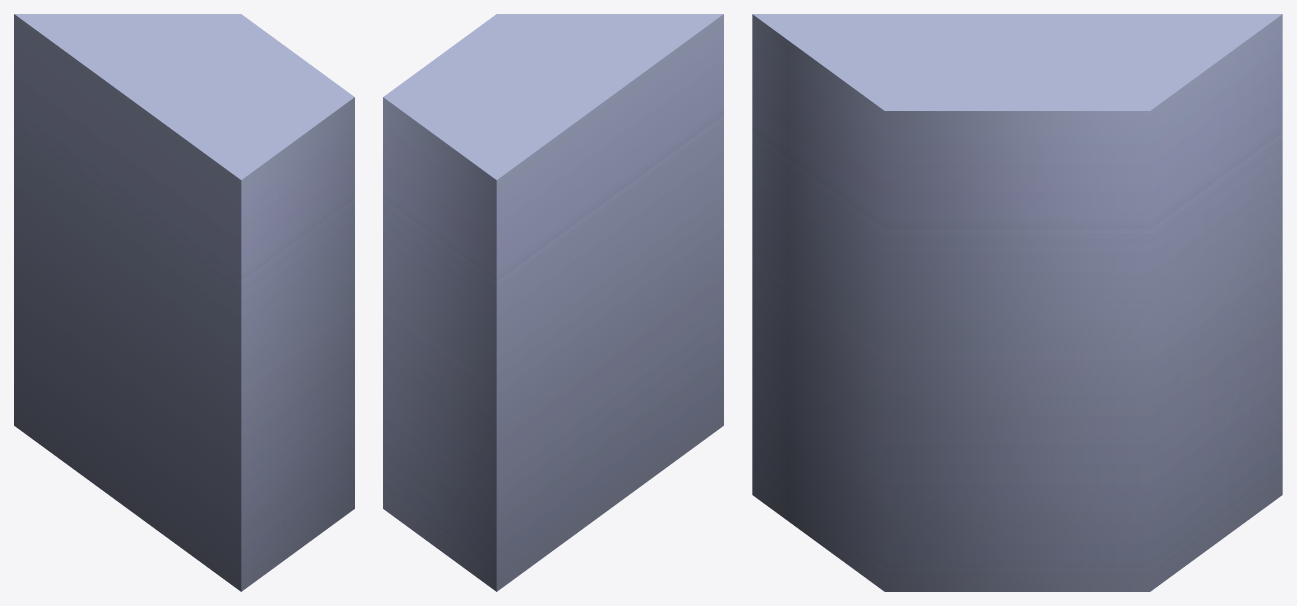
Rendered from shape-hexagon-half.glb.
3 renders of one model, left to right at view 1: azimuth 30°, elevation 25°; view 2: azimuth 150°, elevation 25°; view 3: azimuth 270°, elevation 25°, orthographic. The views are drawn at different scales.
Visible parts, largest first — view 1: shape-hexagon-half; view 2: shape-hexagon-half; view 3: shape-hexagon-half.
Boxes of the visible parts, x1,y1,x2,y2 form: shape-hexagon-half: (14,14,354,591); shape-hexagon-half: (383,14,723,591); shape-hexagon-half: (752,14,1282,591).
Size of the model in its own units: 0.433 by 1 by 1.
1 material, 1 textured.
